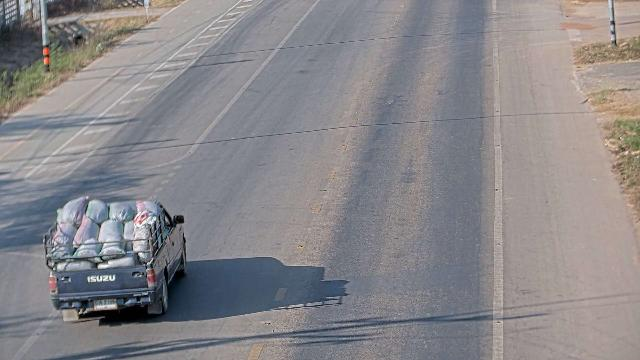pickup-truck: (42, 194, 188, 323)
